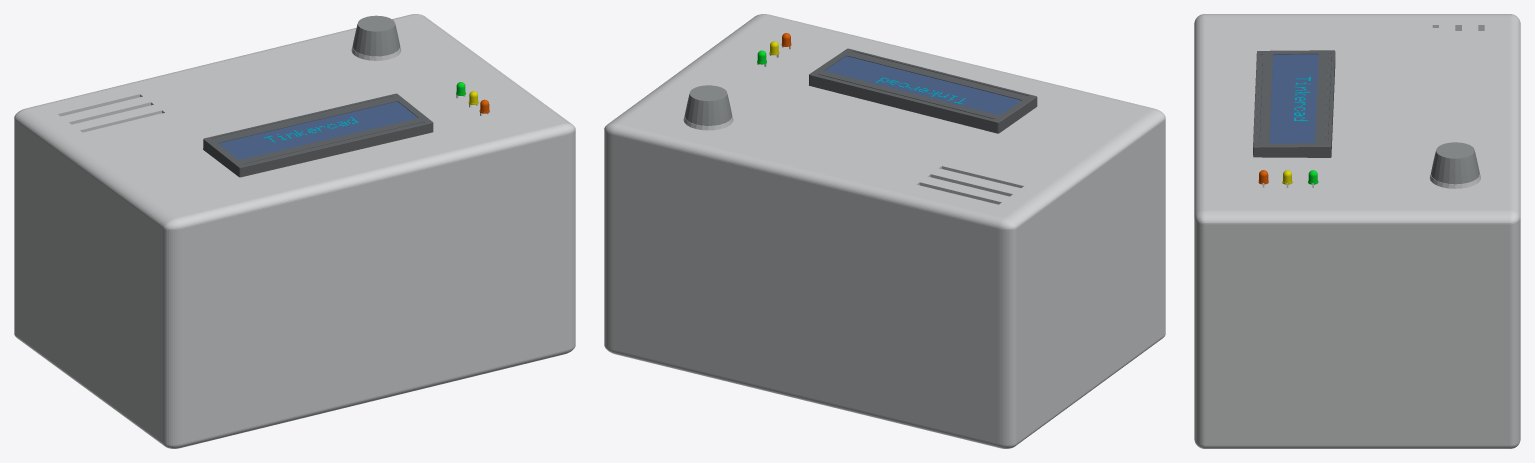
The model's file is AirQualityDevice.glb.
3 renders of one model, left to right at view 1: azimuth 30°, elevation 25°; view 2: azimuth 150°, elevation 25°; view 3: azimuth 270°, elevation 25°, orthographic. The views are drawn at different scales.
Visible parts, largest first — view 1: Mesh_Mesh_head_geo.001_lambert2SG.001; view 2: Mesh_Mesh_head_geo.001_lambert2SG.001; view 3: Mesh_Mesh_head_geo.001_lambert2SG.001.
Part boxes in pixels (x1,y1,x2,y2): Mesh_Mesh_head_geo.001_lambert2SG.001: (14, 14, 575, 448); Mesh_Mesh_head_geo.001_lambert2SG.001: (604, 14, 1165, 448); Mesh_Mesh_head_geo.001_lambert2SG.001: (1194, 14, 1520, 448).
Bounding box in the file's own units: 0.15 × 0.0893 × 0.1.
